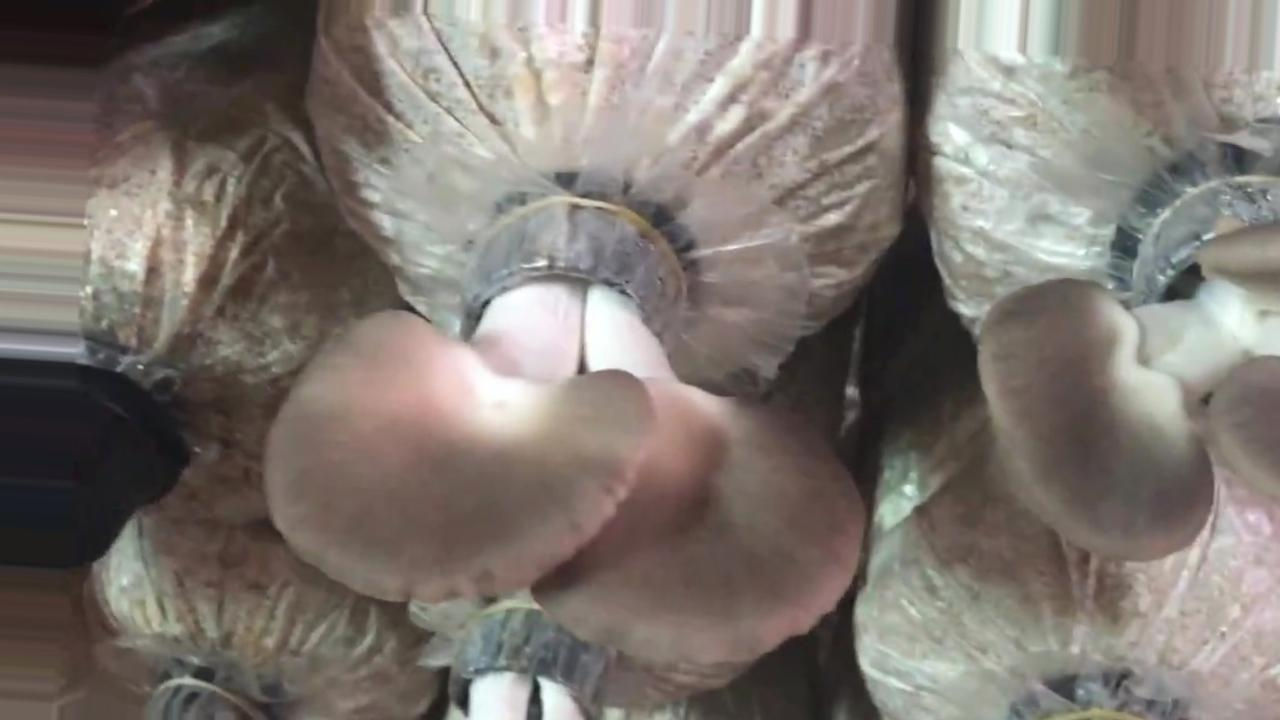nam: (263, 173, 863, 689), (973, 157, 1280, 565)
